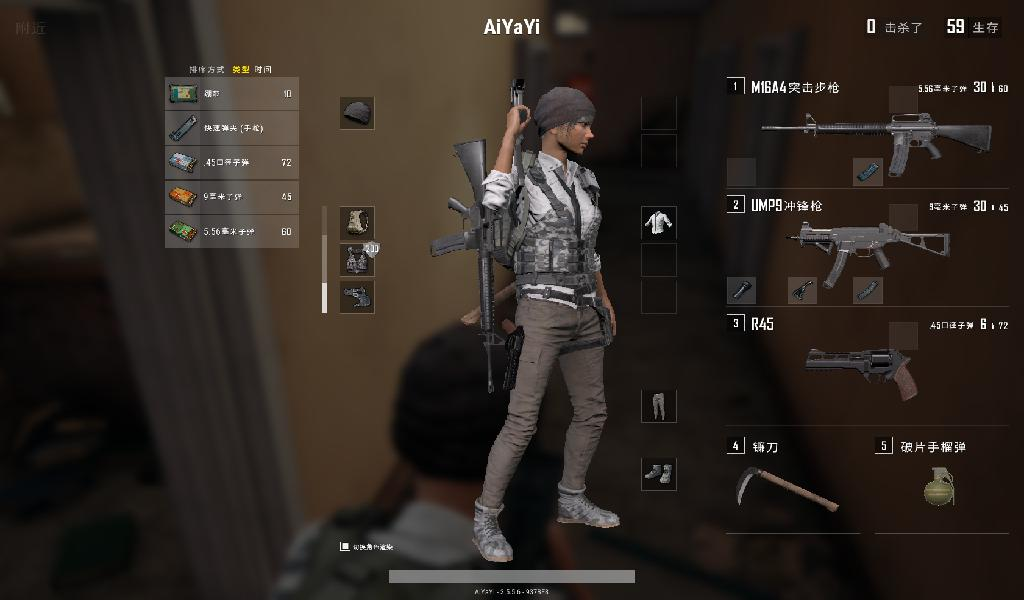Target Person: (433, 79, 622, 569)
